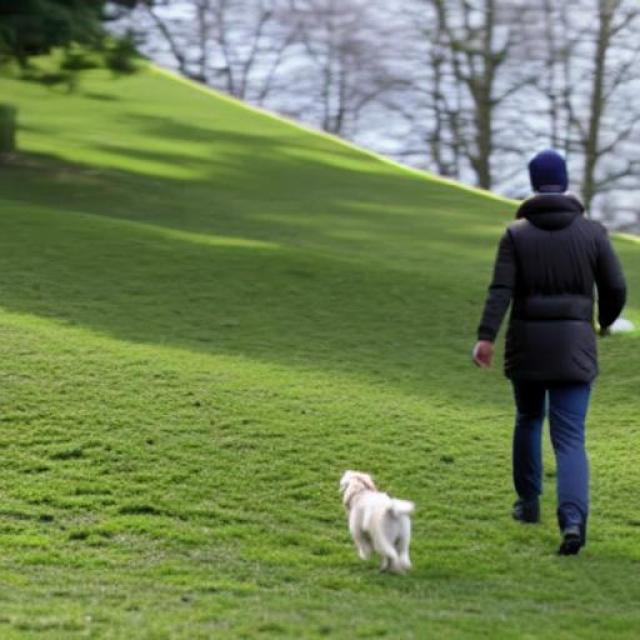Unleashed_Dog: (335, 384, 593, 574)
